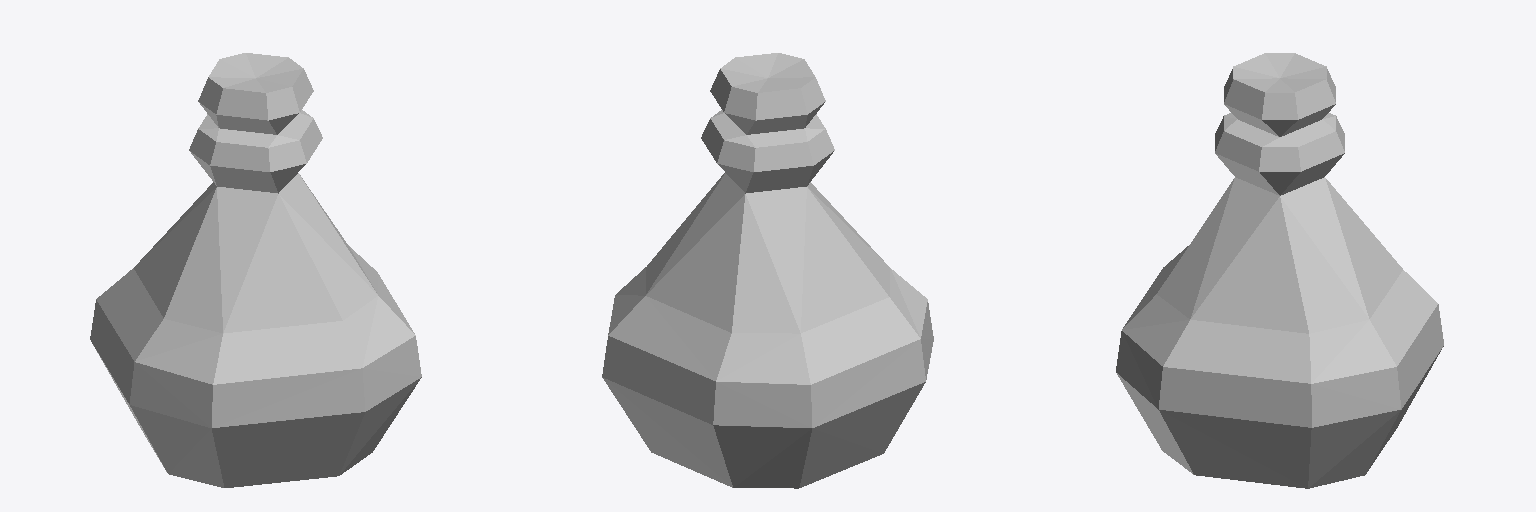
Rendered from bottle_C_green.gltf.obj.
3 views of the same model, side by side, from view 1: azimuth 30°, elevation 25°; view 2: azimuth 150°, elevation 25°; view 3: azimuth 270°, elevation 25° (orthographic).
Bounding box in the file's own units: 0.737 × 0.9062 × 0.737.